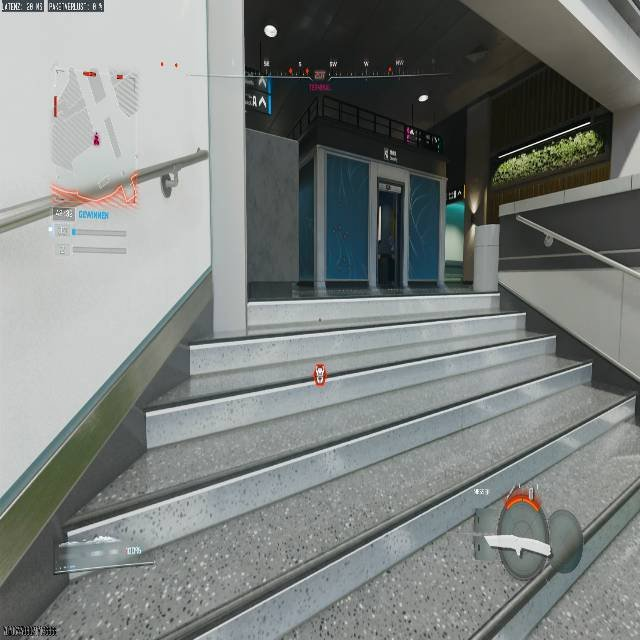head: (7, 0, 640, 591)
